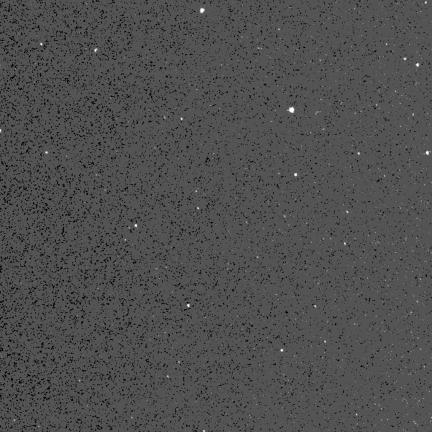blob: (288, 107, 294, 113), (200, 8, 205, 13), (426, 151, 430, 156), (416, 63, 419, 67), (135, 224, 138, 228), (187, 304, 190, 308), (295, 173, 298, 177), (358, 152, 361, 156), (181, 118, 184, 121), (404, 58, 407, 61), (281, 349, 284, 352), (346, 211, 349, 214), (95, 48, 97, 52), (324, 341, 327, 343), (46, 152, 49, 154), (314, 306, 317, 308)
